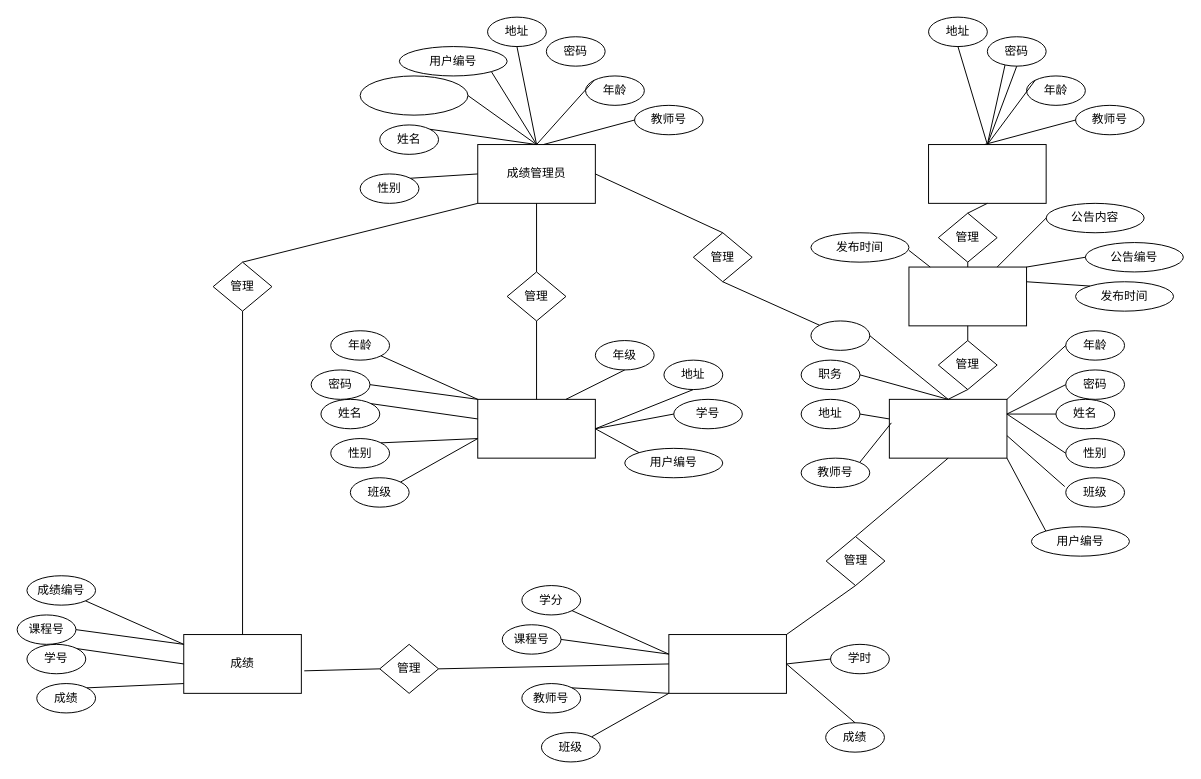
The diagram is 1201 pixels wide and 779 high, and some of its shapes have lost their labels. Here are the shapes that lost their labels. From the top down, the centre of each, then its label:
At [413,95]: "电话号码".
At [987,173]: "系统管理员".
At [967,296]: "公告".
At [840,335]: "职称".
At [536,428]: "学生".
At [947,428]: "教师".
At [727,663]: "课程".
